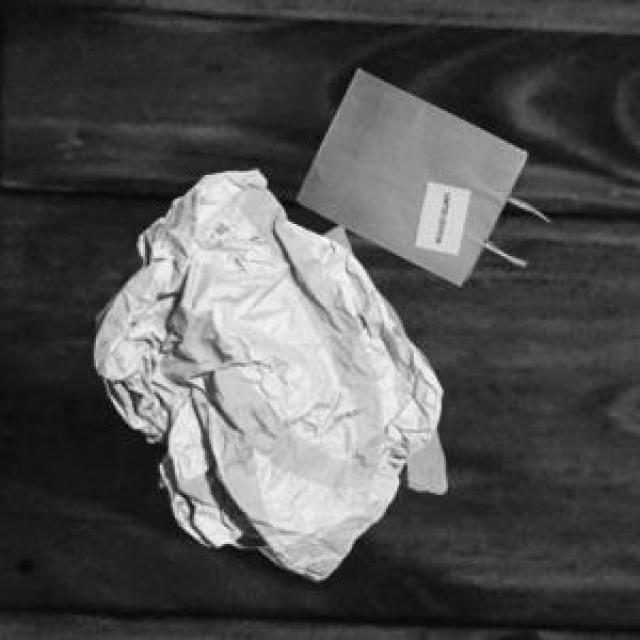paper: (90, 166, 437, 576), (292, 64, 540, 282)
